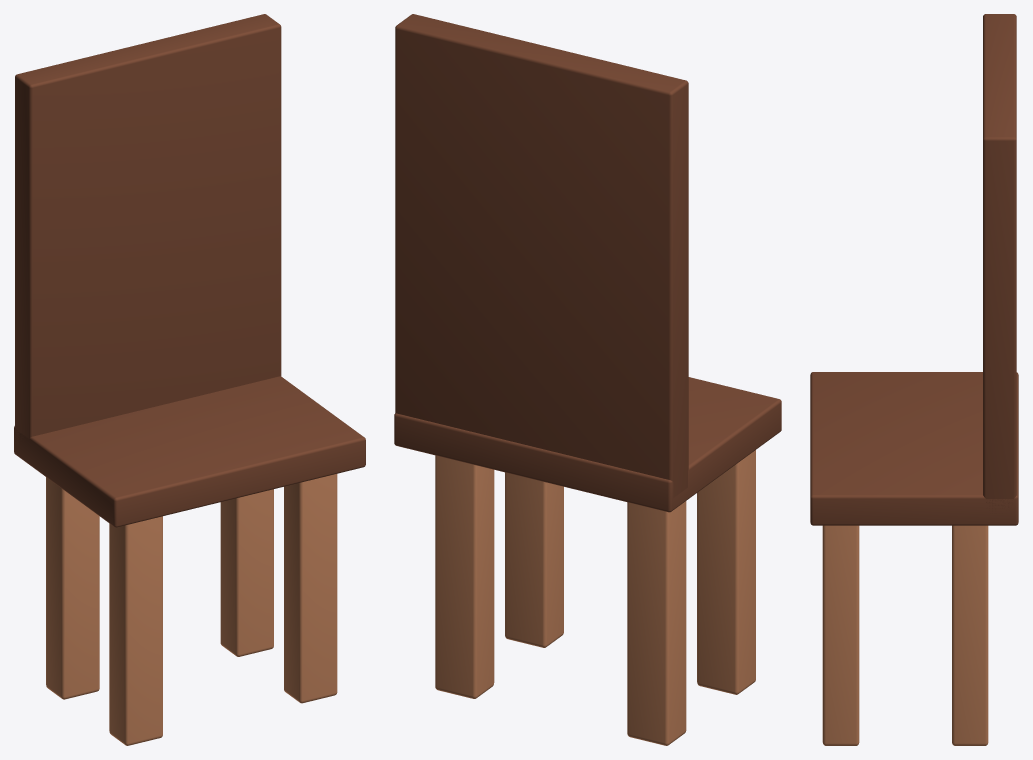
File: chair.dae
The picture shows the model from 3 angles, left to right: view 1: azimuth 30°, elevation 25°; view 2: azimuth 150°, elevation 25°; view 3: azimuth 270°, elevation 25°; orthographic projection. The views are drawn at different scales.
Visible parts, largest first — view 1: Cube.6; view 2: Cube.6; view 3: Cube.6.
Boxes of the visible parts, box(x1,y1,x2,y2) form: Cube.6: box(14, 14, 365, 745); Cube.6: box(394, 14, 781, 745); Cube.6: box(810, 14, 1018, 745).
Size of the model in its own units: 99.41 by 229 by 69.74.
